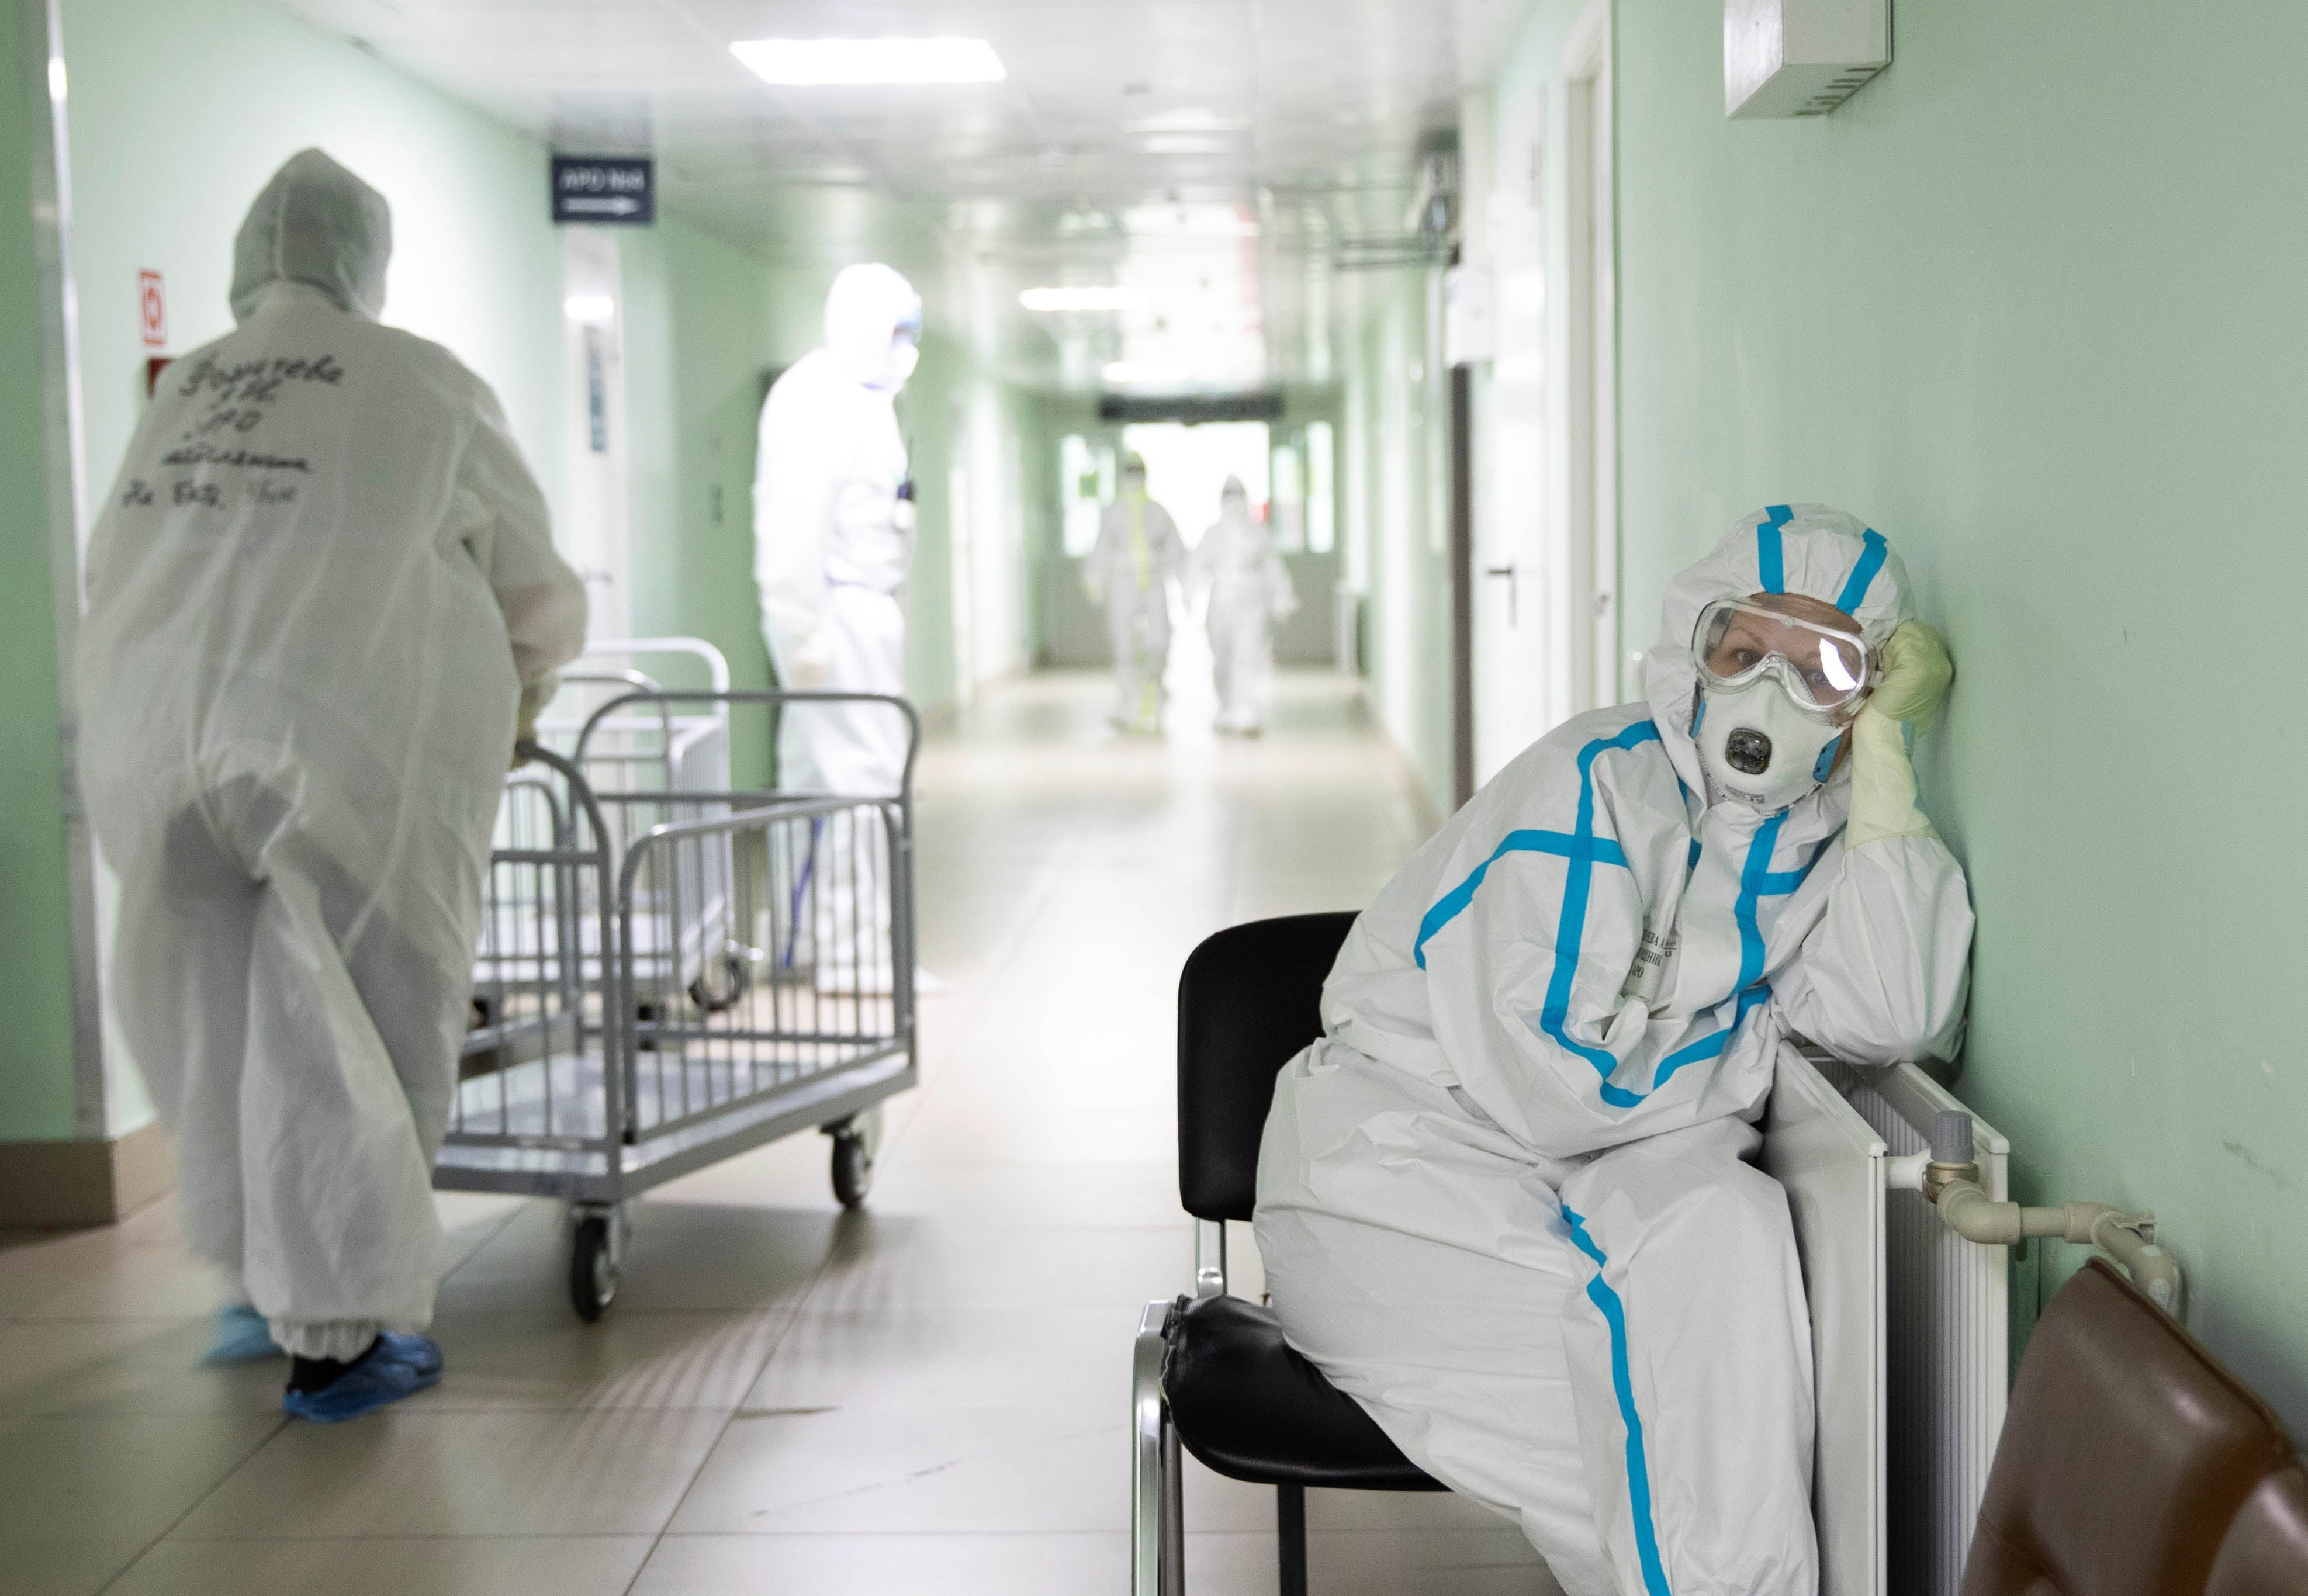Coverall: (1248, 498, 1980, 1596), (69, 142, 595, 1349), (755, 257, 922, 988)
Goggles: (1685, 594, 1876, 724)
with_mask: (1708, 640, 1840, 811)
